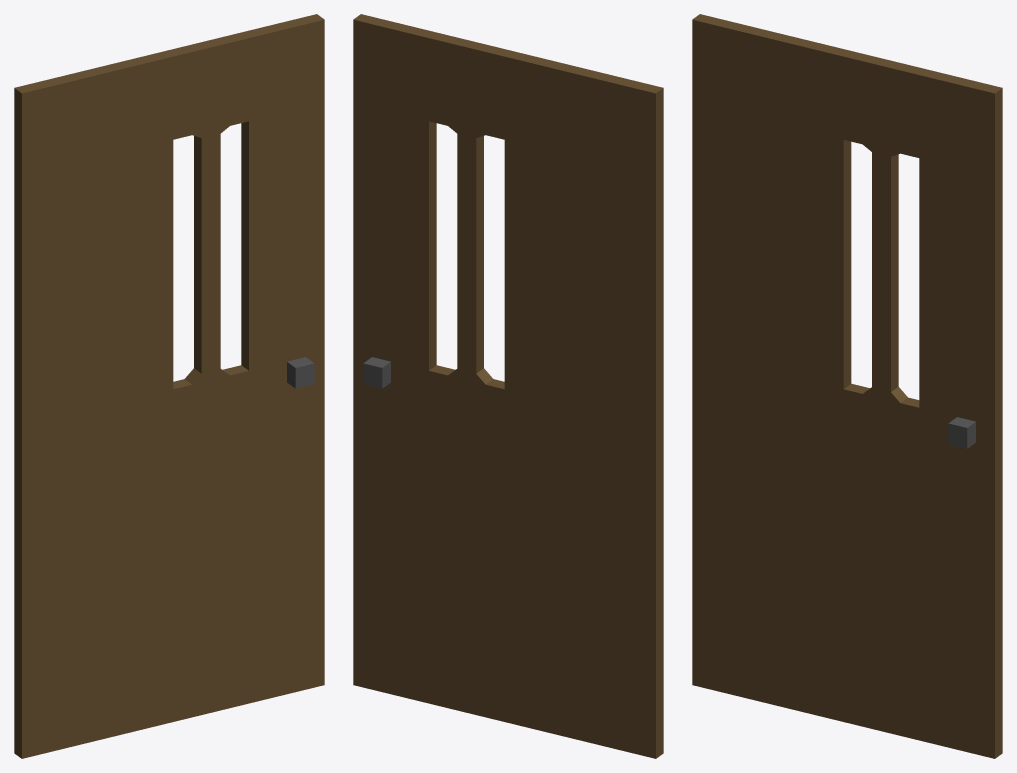
File: Door2.fbx
3 renders of one model, left to right at view 1: azimuth 30°, elevation 25°; view 2: azimuth 150°, elevation 25°; view 3: azimuth 330°, elevation 25°, orthographic.
Visible parts, largest first — view 1: Door; view 2: Door; view 3: Door.
Boxes of the visible parts, box(x1,y1,x2,y2) form: Door: box(14, 14, 324, 758); Door: box(353, 14, 663, 758); Door: box(692, 14, 1002, 758).
Size of the model in its own units: 200 by 420 by 28.86.
